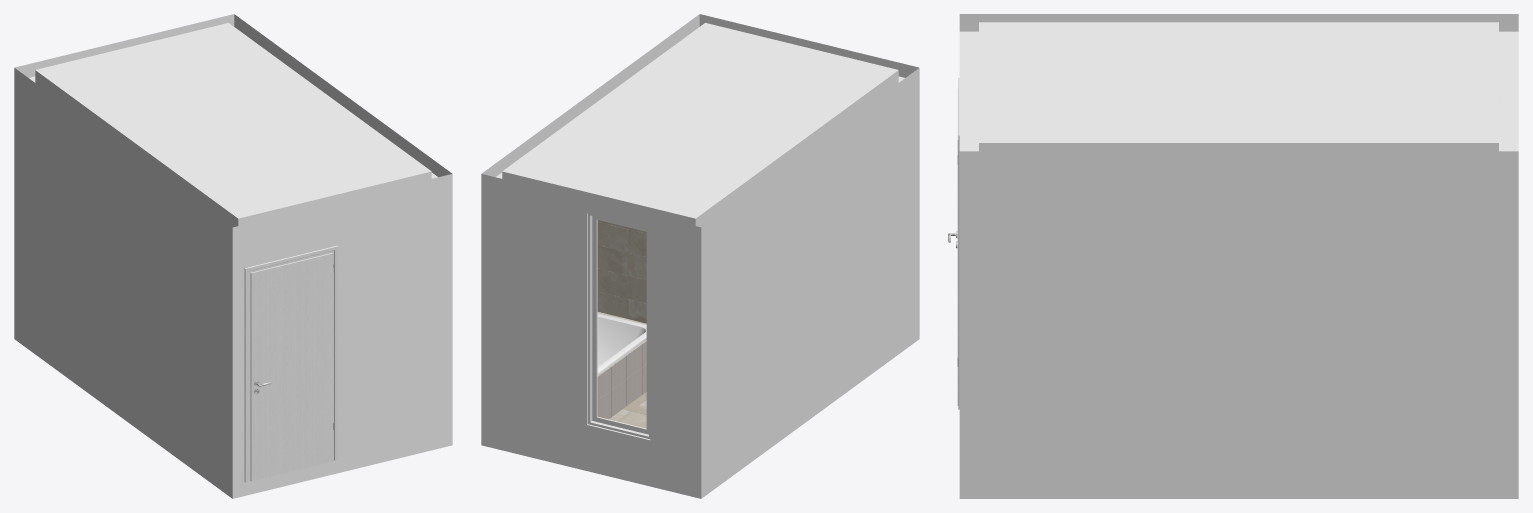
The model's file is visoft-097.glb.
3 views of the same model, side by side, from view 1: azimuth 30°, elevation 25°; view 2: azimuth 150°, elevation 25°; view 3: azimuth 270°, elevation 25° (orthographic). The views are drawn at different scales.
Parts seen in each view (by area): view 1: Wall2_WallFace_FrontSide, LevelCeil_ConstructionFace_Top, Wall1_WallFace_FrontSide, Wall1_StandardDoor, LevelCeil_LevelCeil, LevelFloor_LevelFloor; view 2: Wall2_WallFace_FrontSide, Wall3_WallFace_FrontSide, LevelCeil_ConstructionFace_Top, LevelCeil_LevelCeil, LevelFloor_LevelFloor, Wall3_StandardWindow, StandardMural5_ConstructionFace_LeftSide (×4), RoomObject_17_VB_UBA178ARA2V_OType#501007#_RoomObject_17_VB_, StandardMural7_ConstructionFace_FrontSide (×3); view 3: Wall4_WallFace_FrontSide, LevelCeil_ConstructionFace_Top, LevelCeil_LevelCeil, LevelFloor_LevelFloor, Wall1_ConstructionFace_Top, Wall3_ConstructionFace_Top, Wall1_StandardDoor.
Boxes of the visible parts, <box> form: Wall2_WallFace_FrontSide: <box>14,81,232,484</box>; LevelCeil_ConstructionFace_Top: <box>35,23,431,218</box>; Wall1_WallFace_FrontSide: <box>232,187,452,484</box>; Wall1_StandardDoor: <box>244,245,338,482</box>; LevelCeil_LevelCeil: <box>14,14,452,240</box>; LevelFloor_LevelFloor: <box>14,325,452,498</box>; Wall2_WallFace_FrontSide: <box>701,81,919,484</box>; Wall3_WallFace_FrontSide: <box>481,187,701,484</box>; LevelCeil_ConstructionFace_Top: <box>502,23,898,218</box>; LevelCeil_LevelCeil: <box>481,14,919,240</box>; LevelFloor_LevelFloor: <box>481,325,919,498</box>; Wall3_StandardWindow: <box>588,213,650,439</box>; StandardMural5_ConstructionFace_LeftSide (×4): <box>597,222,646,318</box>; RoomObject_17_VB_UBA178ARA2V_OType#501007#_RoomObject_17_VB_: <box>597,313,646,375</box>; StandardMural7_ConstructionFace_FrontSide (×3): <box>597,348,646,419</box>; Wall4_WallFace_FrontSide: <box>959,169,1518,481</box>; LevelCeil_ConstructionFace_Top: <box>979,22,1498,142</box>; LevelCeil_LevelCeil: <box>959,14,1518,168</box>; LevelFloor_LevelFloor: <box>959,481,1518,498</box>; Wall1_ConstructionFace_Top: <box>959,32,978,151</box>; Wall3_ConstructionFace_Top: <box>1499,32,1518,151</box>; Wall1_StandardDoor: <box>957,77,959,409</box>.
Size of what is drawn, in the model's own units: 2.5 by 2.95 by 4.39.
Materials: 388 (310 with a texture image).
